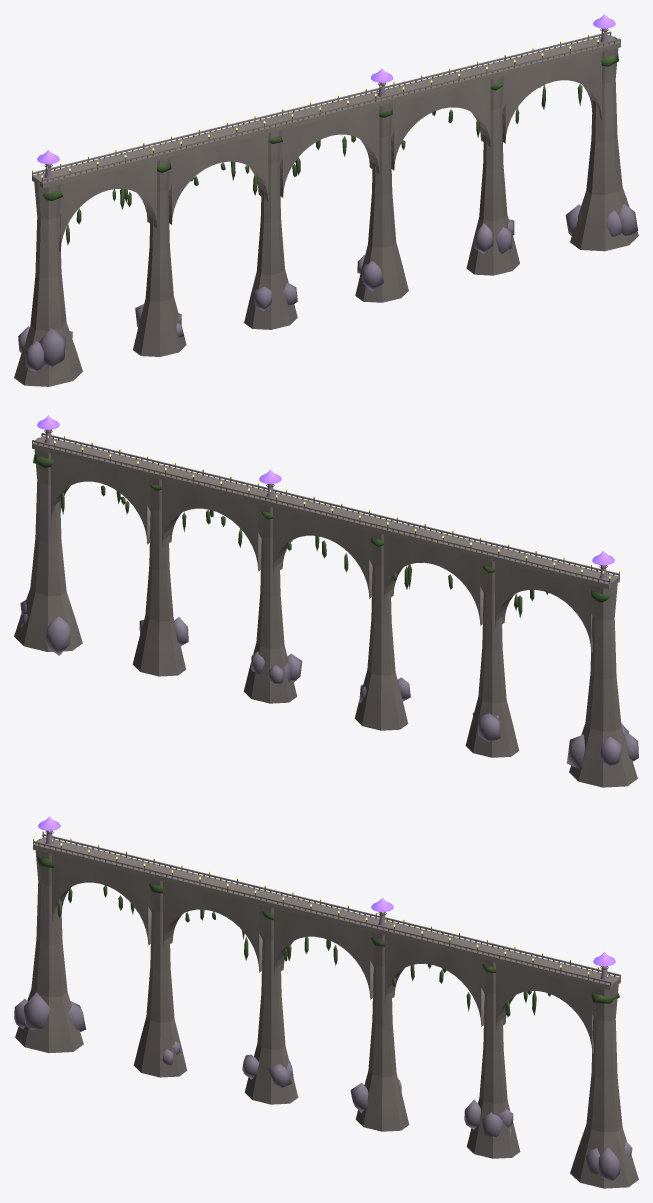
The model's file is bridge.glb.
3 renders of one model, top to bottom at view 1: azimuth 30°, elevation 25°; view 2: azimuth 150°, elevation 25°; view 3: azimuth 330°, elevation 25°, orthographic.
Parts seen in each view (by area): view 1: hero_valley_stone, hero_valley_rock, hero_valley_moss, hero_valley_spire_cap; view 2: hero_valley_stone, hero_valley_rock, hero_valley_moss, hero_valley_spire_cap; view 3: hero_valley_stone, hero_valley_rock, hero_valley_moss, hero_valley_spire_cap.
Boxes of the visible parts, box(x1,y1,x2,y2) form: hero_valley_stone: box(14, 31, 638, 386); hero_valley_rock: box(18, 198, 638, 371); hero_valley_moss: box(42, 54, 618, 245); hero_valley_spire_cap: box(37, 14, 615, 164); hero_valley_stone: box(14, 433, 637, 787); hero_valley_rock: box(20, 600, 638, 768); hero_valley_moss: box(33, 453, 610, 617); hero_valley_spire_cap: box(37, 415, 614, 565); hero_valley_stone: box(15, 834, 638, 1188); hero_valley_rock: box(14, 992, 632, 1181); hero_valley_moss: box(37, 856, 619, 1017); hero_valley_spire_cap: box(38, 816, 615, 966).
Size of the model in its own units: 332 by 119 by 26.16.
